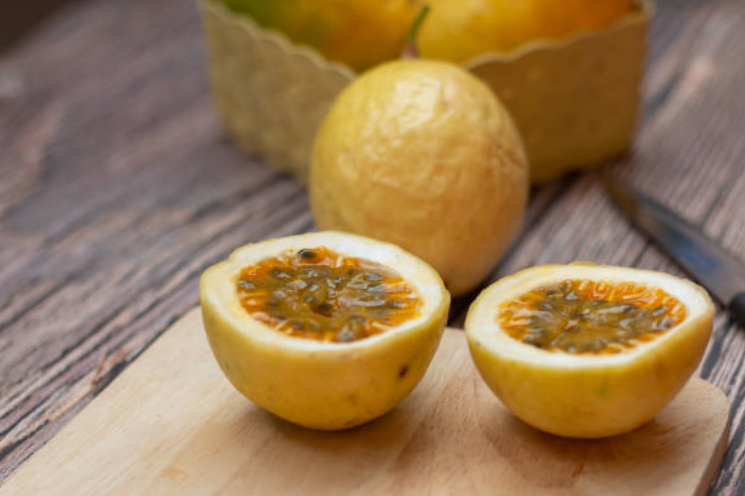maracuya: (306, 57, 536, 301)
